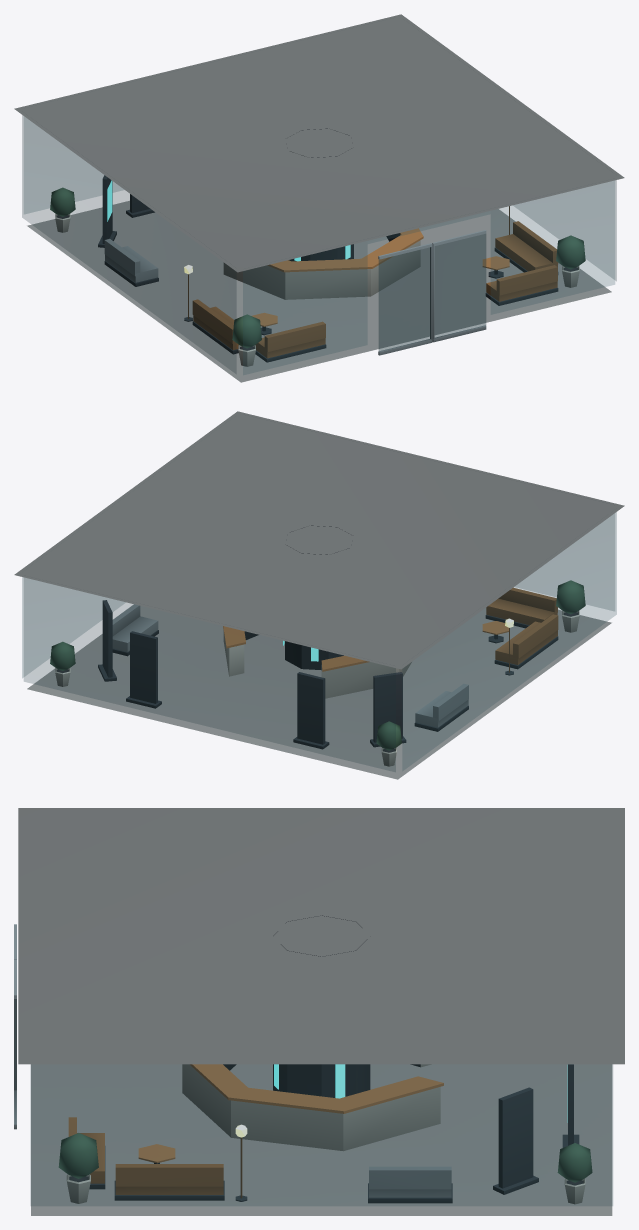
File: lobby-agent.lod2.glb
3 views of the same model, one above another, from view 1: azimuth 30°, elevation 25°; view 2: azimuth 150°, elevation 25°; view 3: azimuth 270°, elevation 25° (orthographic). The views are drawn at different scales.
Parts seen in each view (by area): view 1: structure, door_0_l, door_0_r, foliage; view 2: structure, foliage; view 3: structure, foliage.
Boxes of the visible parts, x1,y1,x2,y2 form: structure: (14,14,624,382); door_0_l: (378,243,432,355); door_0_r: (432,230,486,342); foliage: (50,187,585,348); structure: (14,411,624,779); foliage: (50,580,585,750); structure: (18,808,624,1215); foliage: (58,1133,592,1182).
Bounding box in the file's own units: 14.36 × 4.12 × 14.46.
